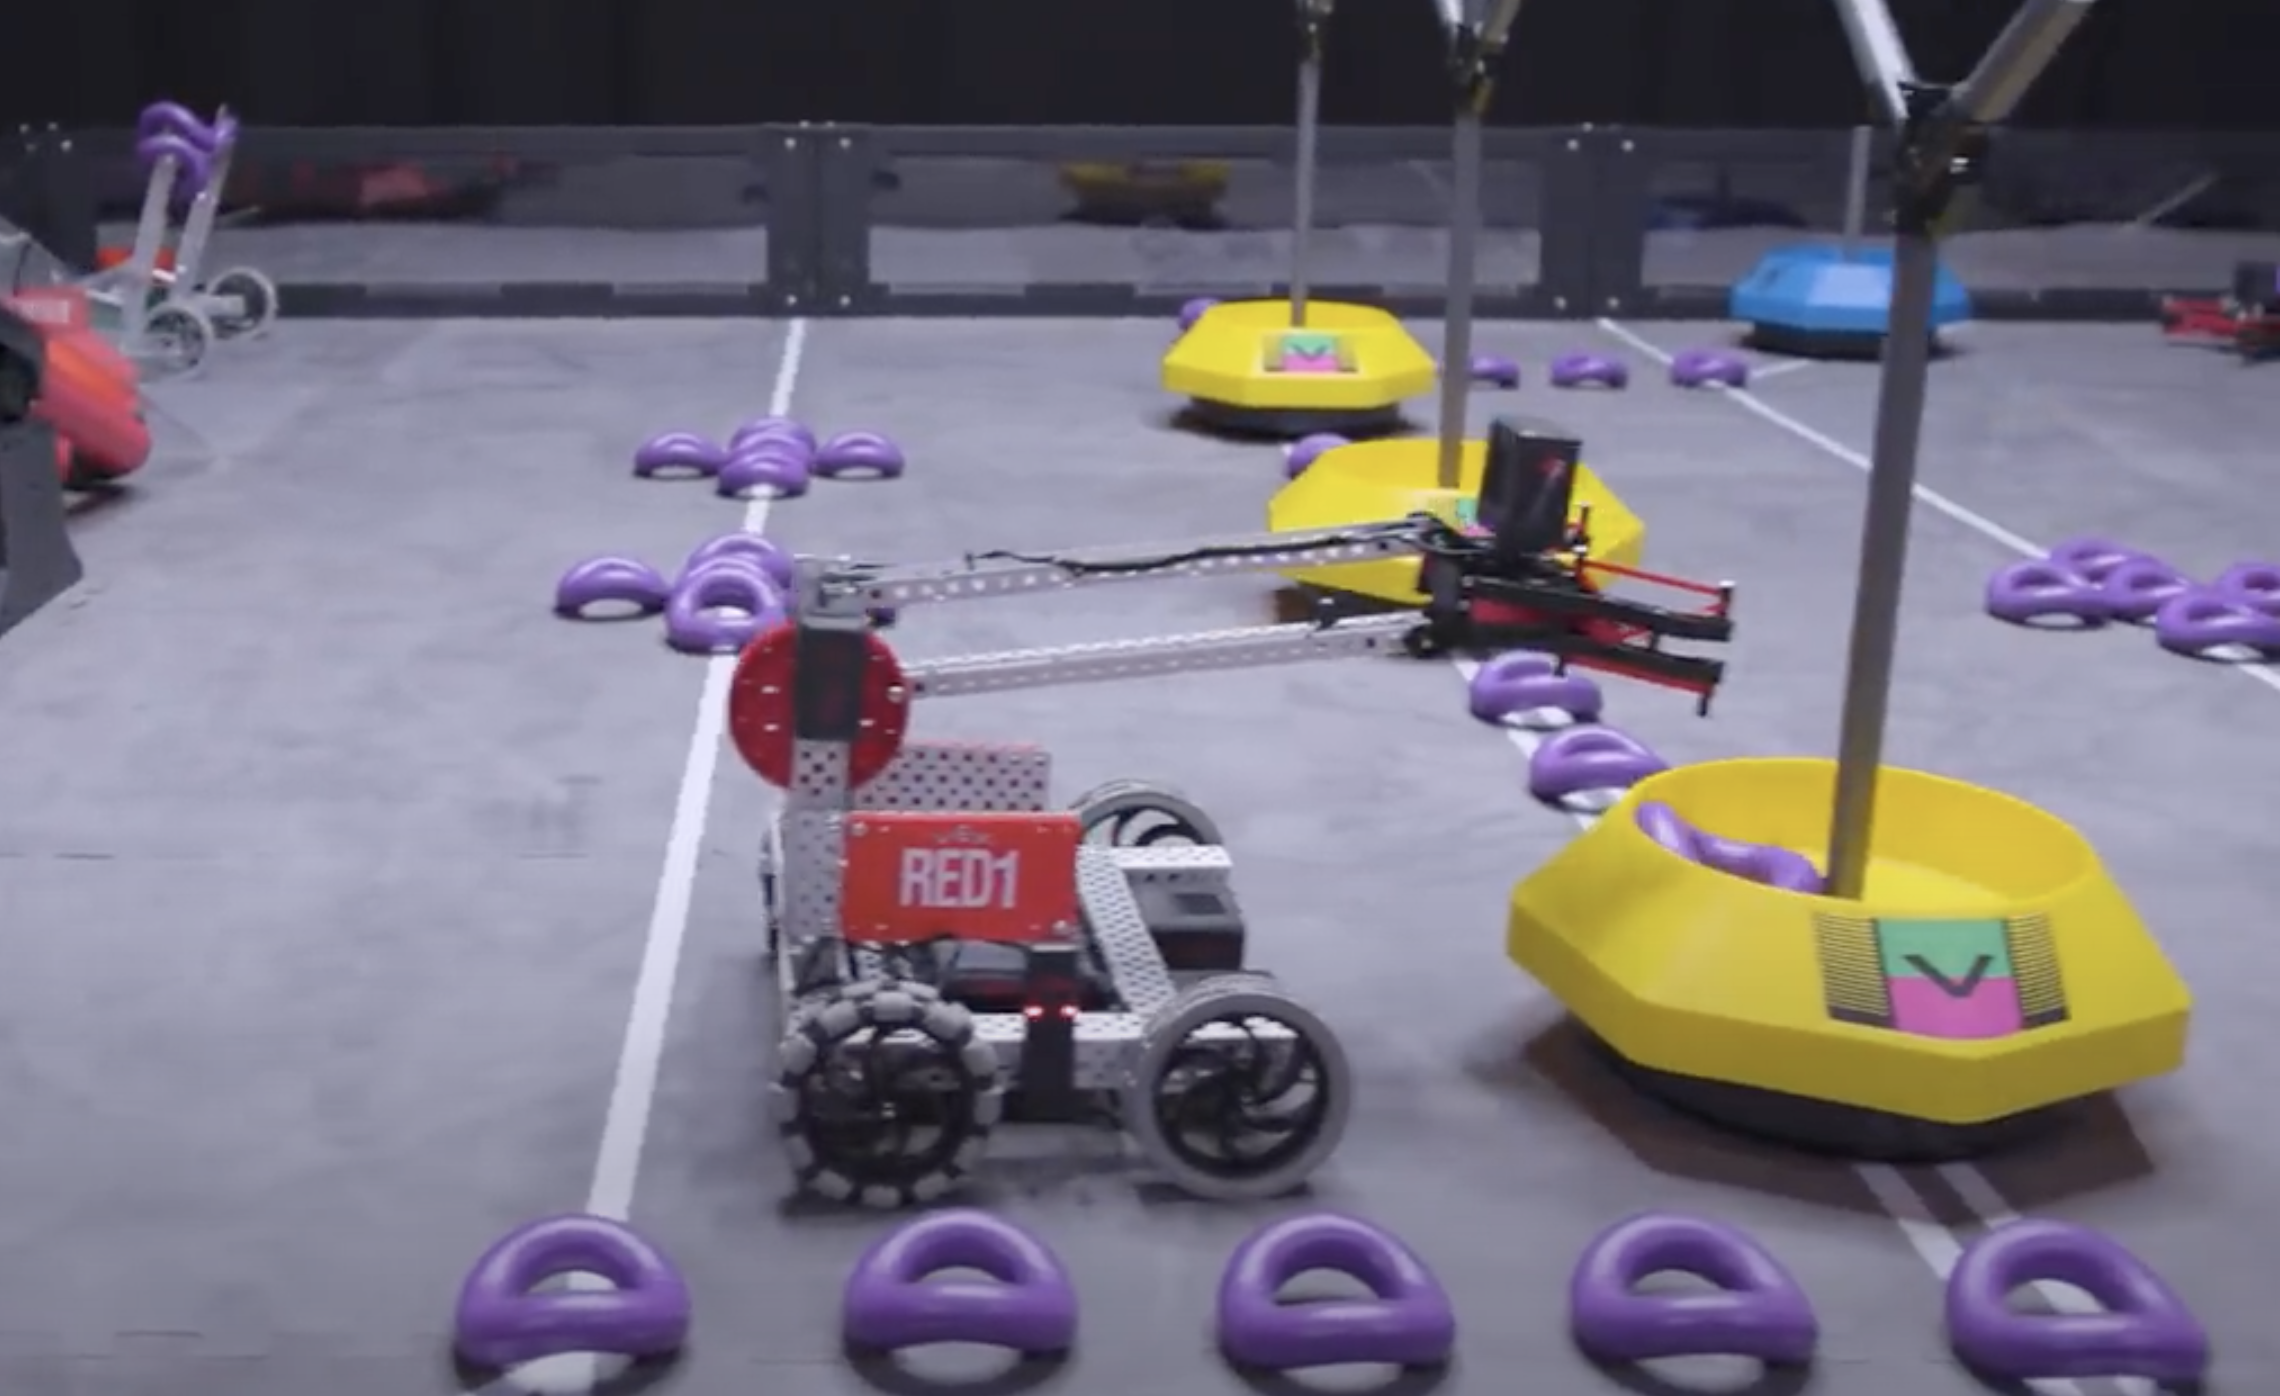ring: (1946, 1217, 2208, 1381), (1570, 1209, 1816, 1367), (1218, 1210, 1454, 1368), (844, 1205, 1078, 1362), (458, 1210, 692, 1365), (1633, 800, 1824, 911), (1529, 723, 1674, 797), (1467, 648, 1603, 723), (664, 565, 788, 647), (1984, 559, 2107, 626), (2155, 585, 2256, 656), (555, 554, 668, 617), (2106, 559, 2199, 621), (630, 425, 726, 479), (687, 529, 791, 577), (138, 134, 210, 199), (818, 432, 904, 476), (138, 99, 218, 147), (721, 453, 808, 495), (2055, 534, 2135, 580), (1673, 347, 1751, 389), (1441, 350, 1523, 389), (1552, 350, 1629, 389), (1287, 432, 1353, 476), (728, 433, 809, 464), (734, 420, 818, 448), (1179, 296, 1231, 329)
